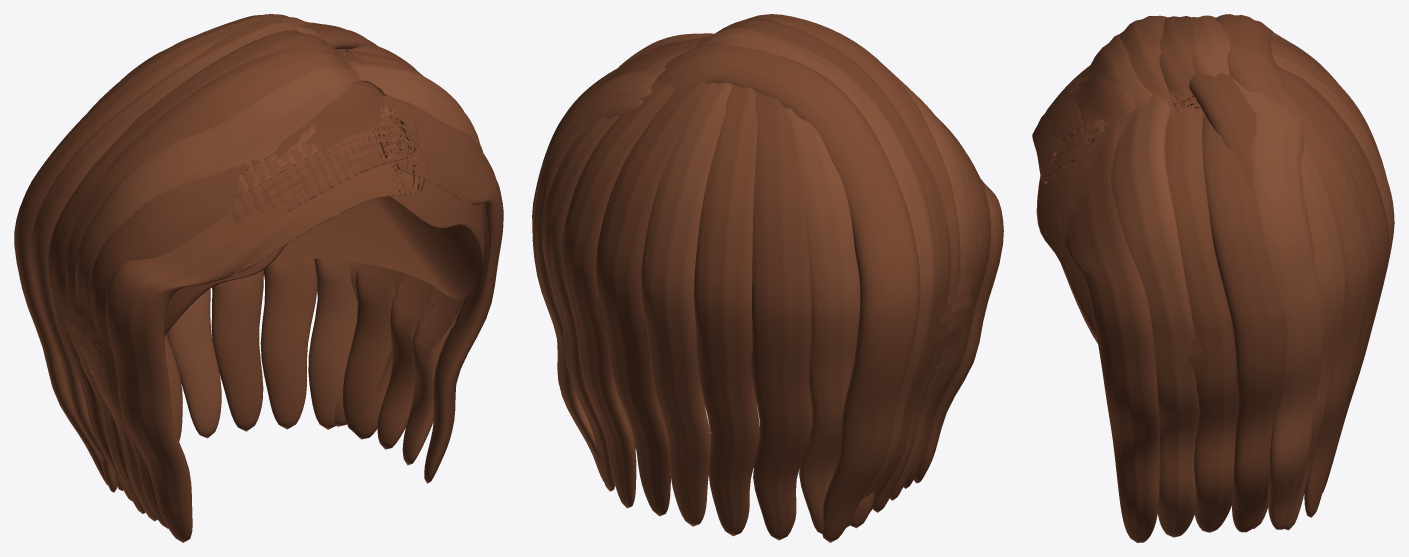
File: Feminine-side-sweep-hair.glb
3 views of the same model, side by side, from view 1: azimuth 30°, elevation 25°; view 2: azimuth 150°, elevation 25°; view 3: azimuth 270°, elevation 25° (orthographic). The views are drawn at different scales.
Visible parts, largest first — view 1: 226 hair / Hair / sculpted 0.001, 226 hair / Hair / sculpted 1.002, 226 hair / Hair / sculpted 2.001, 226 hair / Hair / sculpted 1.001; view 2: 226 hair / Hair / sculpted 0.001, 226 hair / Hair / sculpted 2.001, 226 hair / Hair / sculpted 1.002; view 3: 226 hair / Hair / sculpted 1.002, 226 hair / Hair / sculpted 2.001, 226 hair / Hair / sculpted 0.001, 226 hair / Hair / sculpted 1.001.
Boxes of the visible parts, x1=… form: 226 hair / Hair / sculpted 0.001: x1=14, y1=14, x2=435, y2=542; 226 hair / Hair / sculpted 1.002: x1=48, y1=24, x2=503, y2=528; 226 hair / Hair / sculpted 2.001: x1=30, y1=19, x2=486, y2=521; 226 hair / Hair / sculpted 1.001: x1=89, y1=179, x2=484, y2=373; 226 hair / Hair / sculpted 0.001: x1=561, y1=14, x2=1003, y2=542; 226 hair / Hair / sculpted 2.001: x1=532, y1=28, x2=977, y2=533; 226 hair / Hair / sculpted 1.002: x1=532, y1=18, x2=990, y2=540; 226 hair / Hair / sculpted 1.002: x1=1045, y1=16, x2=1389, y2=542; 226 hair / Hair / sculpted 2.001: x1=1068, y1=15, x2=1394, y2=537; 226 hair / Hair / sculpted 0.001: x1=1032, y1=14, x2=1386, y2=532; 226 hair / Hair / sculpted 1.001: x1=1036, y1=176, x2=1097, y2=343.
Size of the model in its own units: 1.02 by 1.11 by 0.8091.
